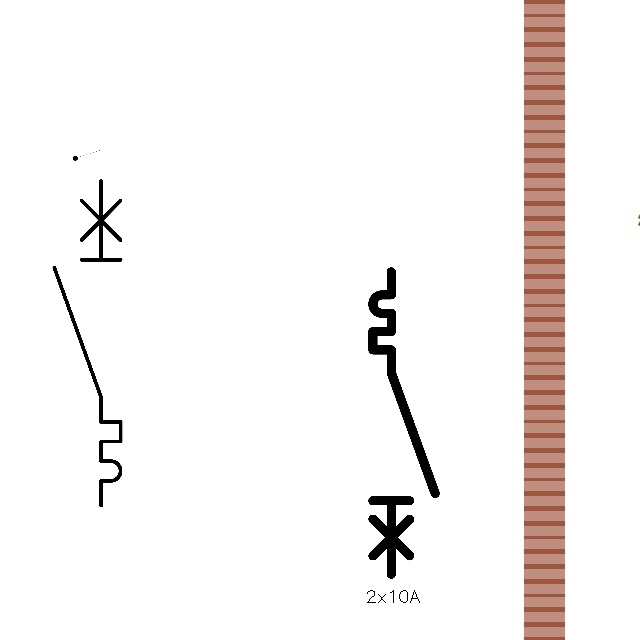interruptor_termomagnetico: (46, 172, 129, 514), (365, 264, 442, 581)
